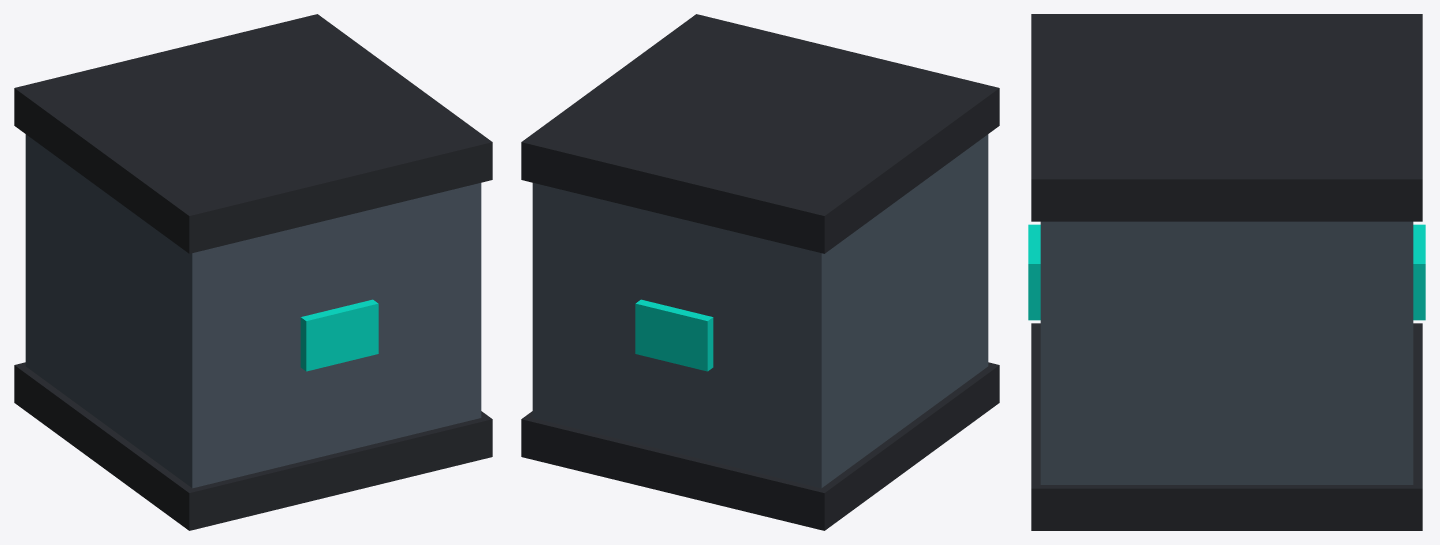
Rendered from scifi_crate.obj.
The picture shows the model from 3 angles, left to right: view 1: azimuth 30°, elevation 25°; view 2: azimuth 150°, elevation 25°; view 3: azimuth 270°, elevation 25°; orthographic projection. The views are drawn at different scales.
Parts seen in each view (by area): view 1: SciFiCrate; view 2: SciFiCrate; view 3: SciFiCrate.
Part boxes in pixels (x1,y1,x2,y2): SciFiCrate: [14, 14, 492, 530]; SciFiCrate: [521, 14, 999, 530]; SciFiCrate: [1028, 14, 1425, 530].
Bounding box in the file's own units: 1.26 × 1.25 × 1.28.
